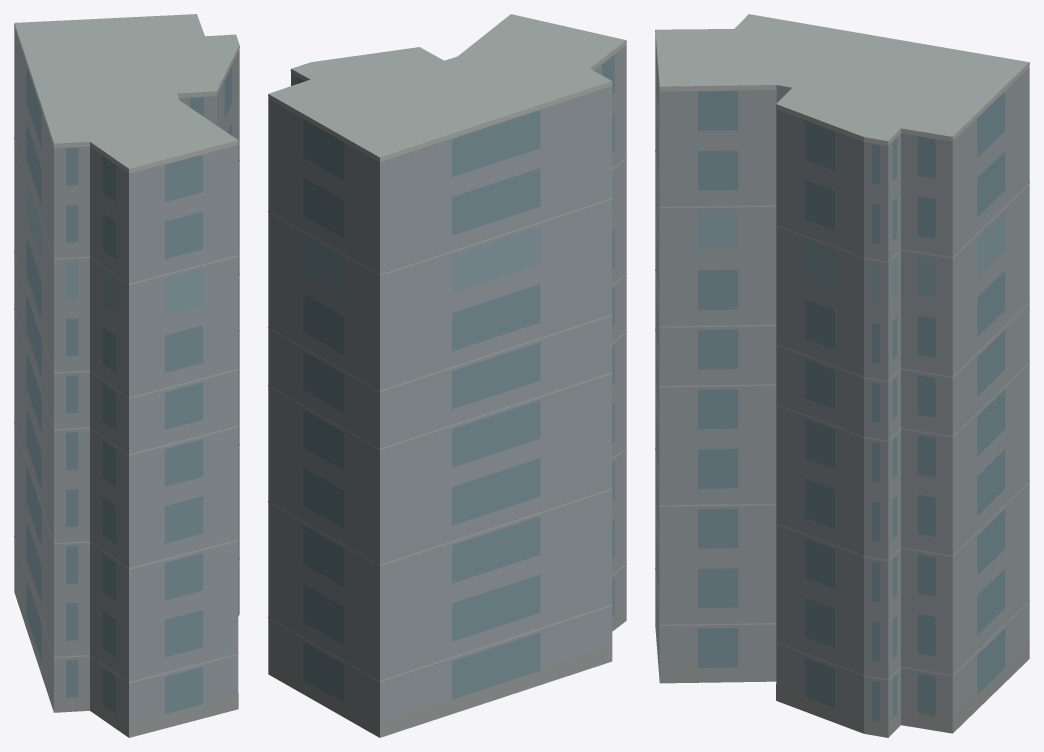
Rendered from survey-upis-32922958.glb.
The picture shows the model from 3 angles, left to right: view 1: azimuth 30°, elevation 25°; view 2: azimuth 150°, elevation 25°; view 3: azimuth 270°, elevation 25°; orthographic projection. The views are drawn at different scales.
Parts seen in each view (by area): view 1: survey-upis-32922958.tmp; view 2: survey-upis-32922958.tmp; view 3: survey-upis-32922958.tmp.
Boxes of the visible parts, bbox=[...] form: survey-upis-32922958.tmp: bbox=[14, 14, 239, 737]; survey-upis-32922958.tmp: bbox=[268, 14, 626, 737]; survey-upis-32922958.tmp: bbox=[655, 14, 1029, 737].
Size of the model in its own units: 13.67 by 29.85 by 16.99.
